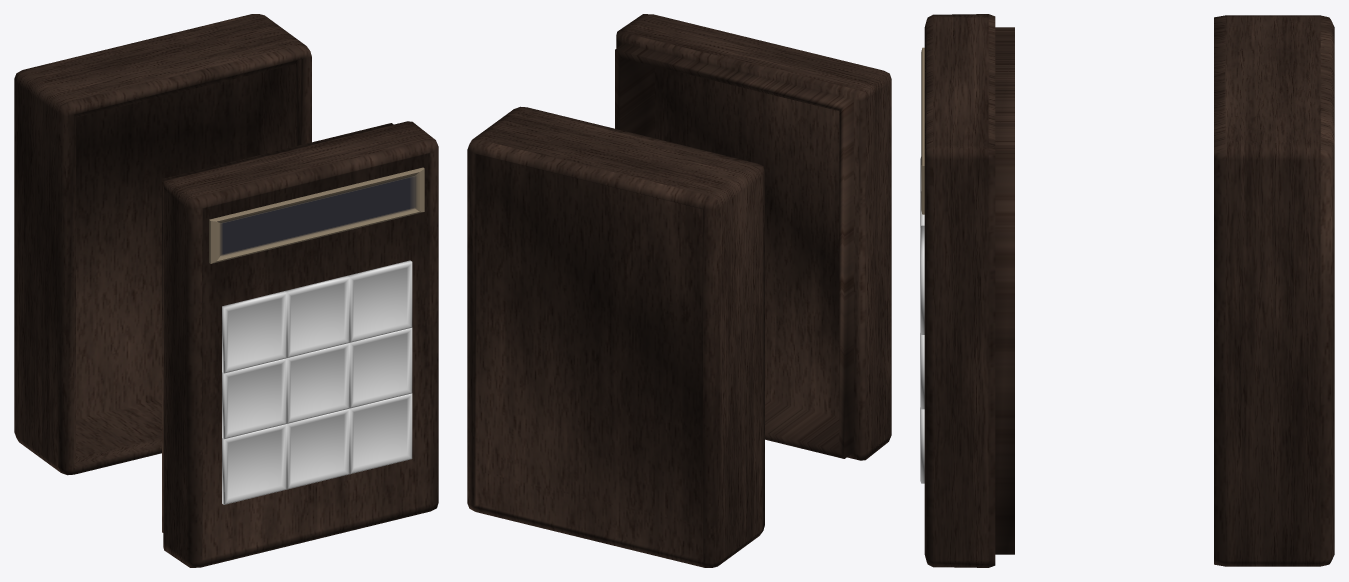
Rendered from ColorPuzzleBox 1.fbx.
3 renders of one model, left to right at view 1: azimuth 30°, elevation 25°; view 2: azimuth 150°, elevation 25°; view 3: azimuth 270°, elevation 25°, orthographic. The views are drawn at different scales.
Visible parts, largest first — view 1: polySurface2, BluePadBox_3x5_body; view 2: BluePadBox_3x5_body, polySurface2; view 3: BluePadBox_3x5_body, polySurface2.
Boxes of the visible parts, bbox=[...] form: polySurface2: bbox=[162, 121, 438, 567]; BluePadBox_3x5_body: bbox=[14, 14, 311, 475]; BluePadBox_3x5_body: bbox=[467, 106, 764, 567]; polySurface2: bbox=[615, 14, 891, 460]; BluePadBox_3x5_body: bbox=[1214, 15, 1334, 566]; polySurface2: bbox=[920, 14, 1014, 567].
Size of the model in its own units: 80 by 113 by 101.
Materials: 10 (1 with a texture image).
